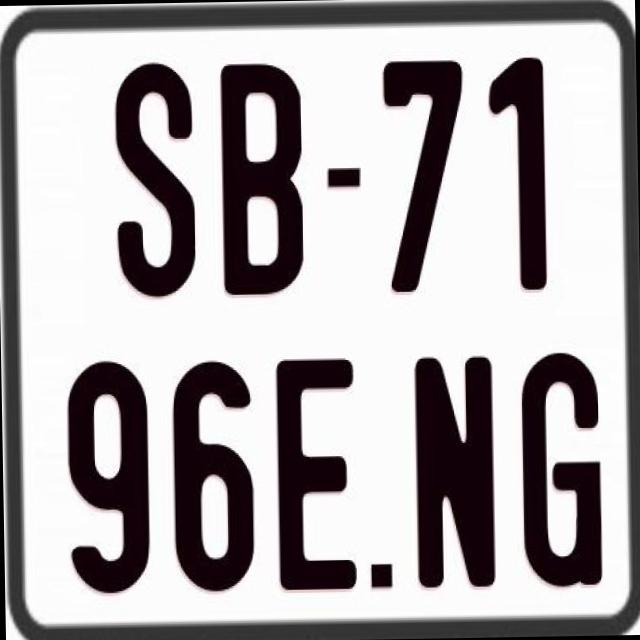1: (488, 55, 554, 290)
6: (170, 358, 256, 596)
7: (378, 55, 461, 291)
9: (66, 356, 152, 600)
B: (216, 63, 306, 299)
E: (274, 355, 364, 591)
G: (518, 351, 604, 585)
N: (409, 350, 492, 586)
S: (112, 57, 198, 293)
